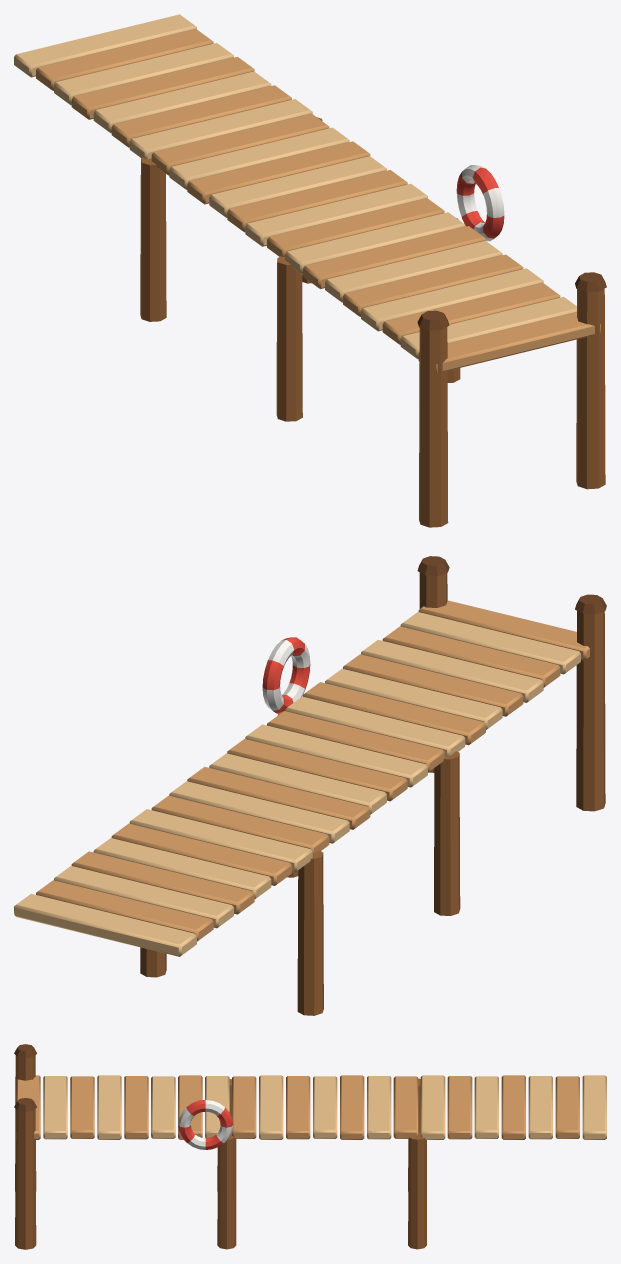
Rendered from home_jetty.fbx.
The picture shows the model from 3 angles, top to bottom: view 1: azimuth 30°, elevation 25°; view 2: azimuth 150°, elevation 25°; view 3: azimuth 270°, elevation 25°; orthographic projection. The views are drawn at different scales.
Visible parts, largest first — view 1: home_jetty; view 2: home_jetty; view 3: home_jetty.
Boxes of the visible parts, <box> form: home_jetty: <box>14,14,606,527</box>; home_jetty: <box>14,556,606,1015</box>; home_jetty: <box>14,1044,606,1249</box>.
Size of the model in its own units: 0.755 by 0.79 by 2.8.
